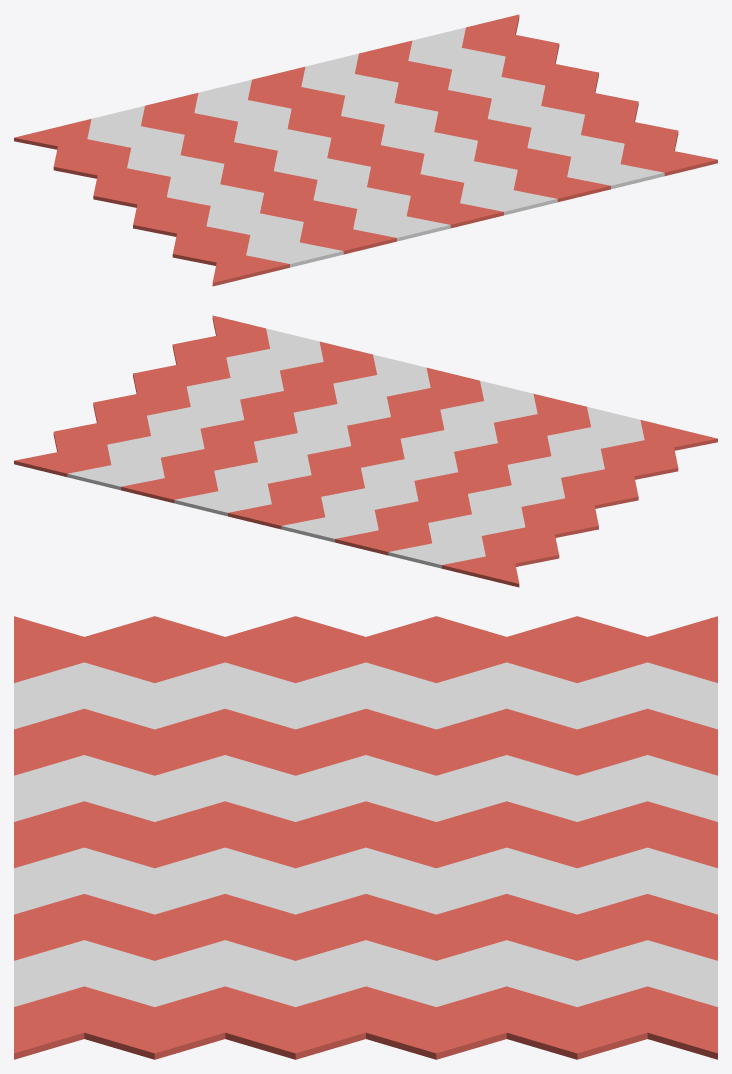
The model's file is Carpet_3.fbx.
The picture shows the model from 3 angles, top to bottom: view 1: azimuth 30°, elevation 25°; view 2: azimuth 150°, elevation 25°; view 3: azimuth 270°, elevation 25°; orthographic projection. The views are drawn at different scales.
Parts seen in each view (by area): view 1: Carpet_3; view 2: Carpet_3; view 3: Carpet_3.
Part boxes in pixels (x1=…): Carpet_3: x1=14, y1=14, x2=717, y2=286; Carpet_3: x1=14, y1=315, x2=717, y2=587; Carpet_3: x1=14, y1=616, x2=717, y2=1059.
Size of the model in its own units: 2.94 by 2 by 0.02.
